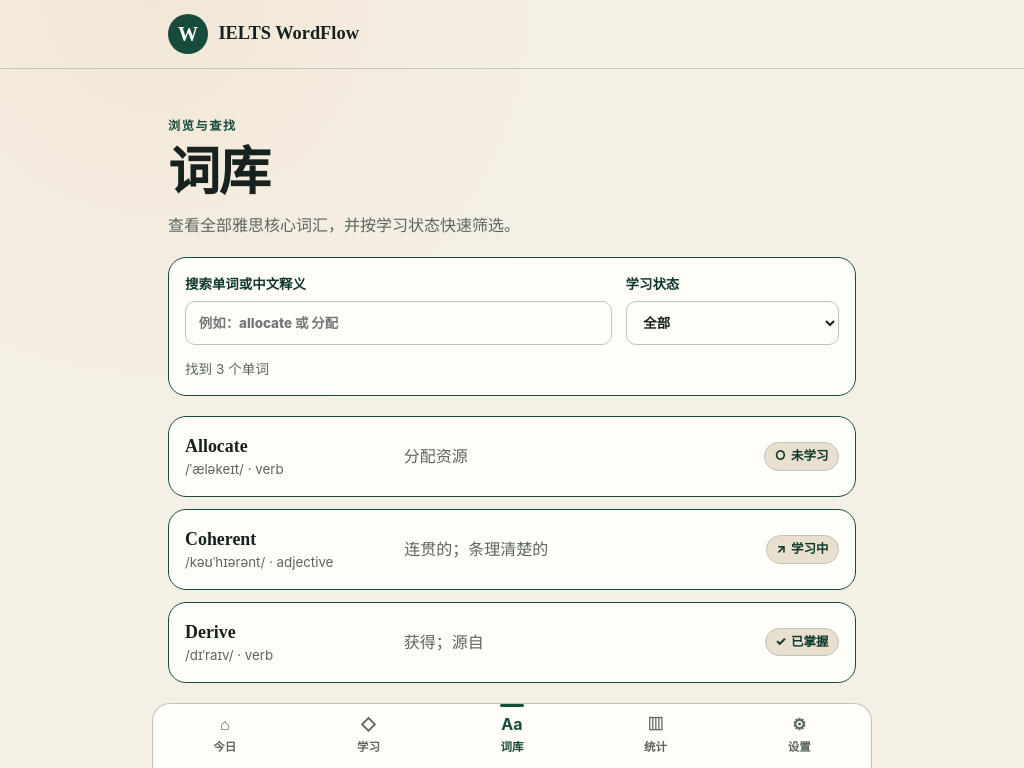
Test case: VocabularyPage › shows an explicit empty state when no words match
Type "不存在的词" into the search field labelled "搜索单词或中文释义".
click(398, 323); type("不存在的词")  # box x1=185 y1=301 x2=612 y2=345
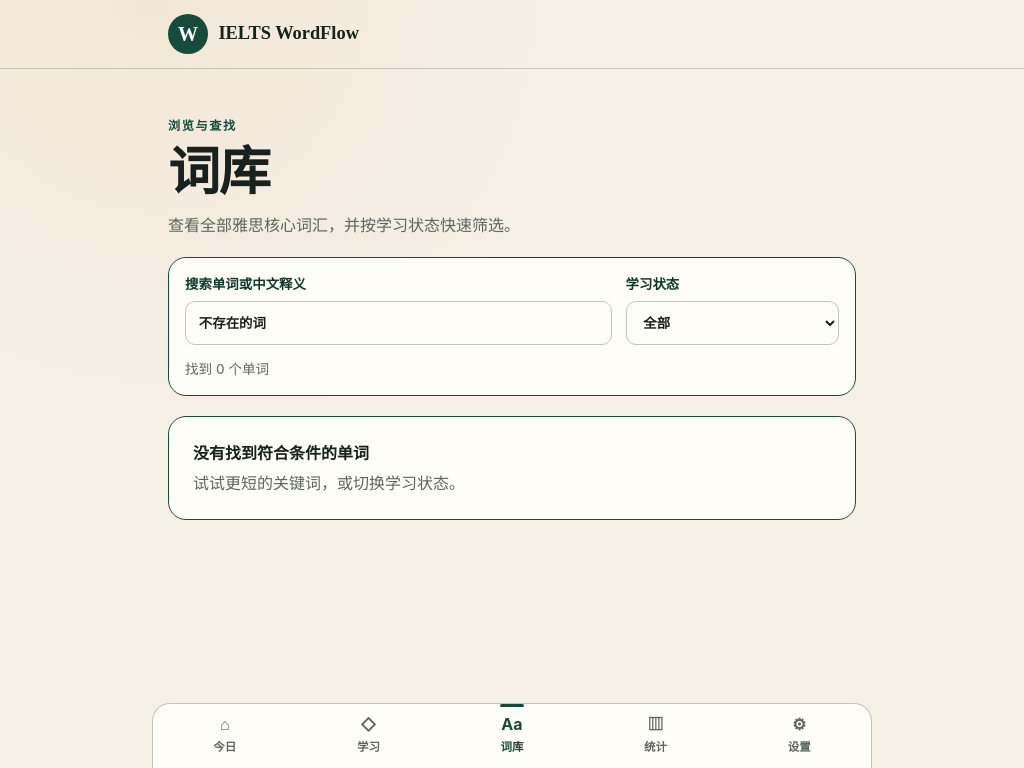
Expected: the message shows "没有找到符合条件的单词", x1=193 y1=443 x2=369 y2=463
